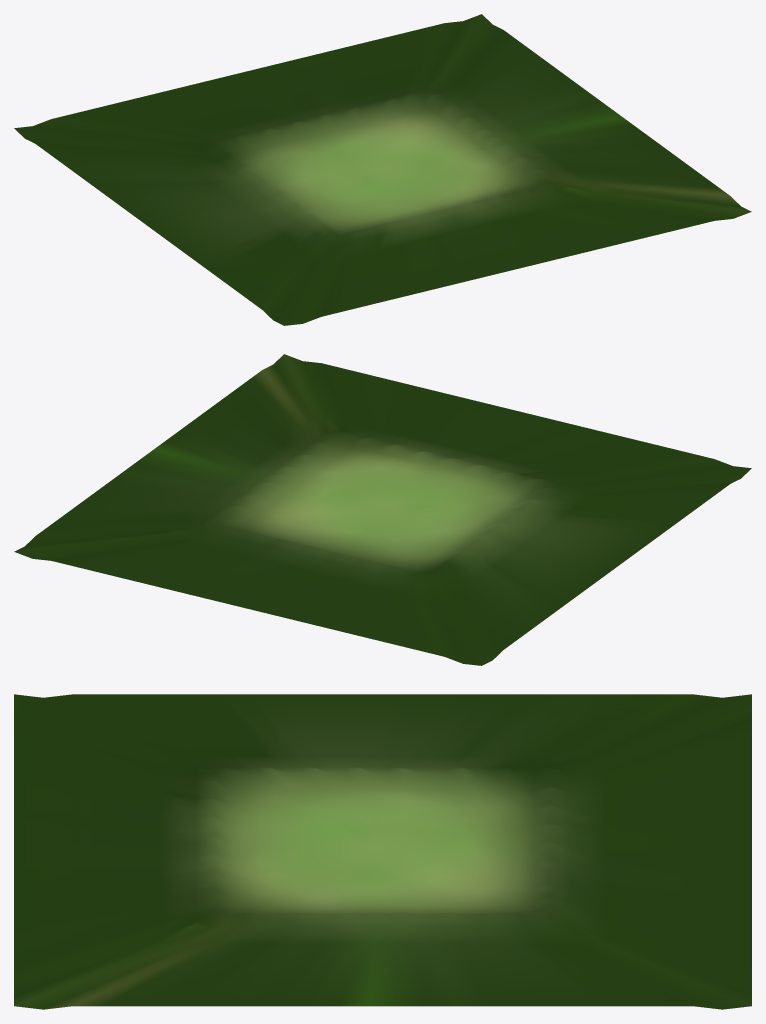
The model's file is SM_Terrain_Plains.glb.
3 renders of one model, top to bottom at view 1: azimuth 30°, elevation 25°; view 2: azimuth 150°, elevation 25°; view 3: azimuth 270°, elevation 25°, orthographic. The views are drawn at different scales.
Parts seen in each view (by area): view 1: SM_Terrain_Plains; view 2: SM_Terrain_Plains; view 3: SM_Terrain_Plains.
Boxes of the visible parts, x1,y1,x2,y2 form: SM_Terrain_Plains: (14, 14, 751, 325); SM_Terrain_Plains: (14, 354, 751, 665); SM_Terrain_Plains: (14, 694, 751, 1009).
Bounding box in the file's own units: 785 × 14.64 × 785.
